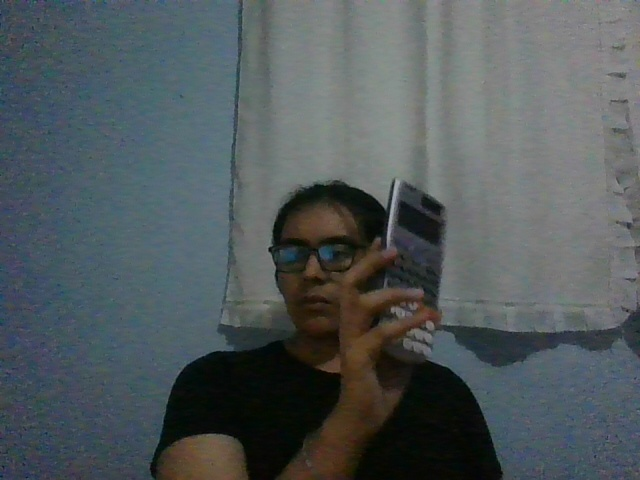calculadora: (374, 178, 446, 366)
